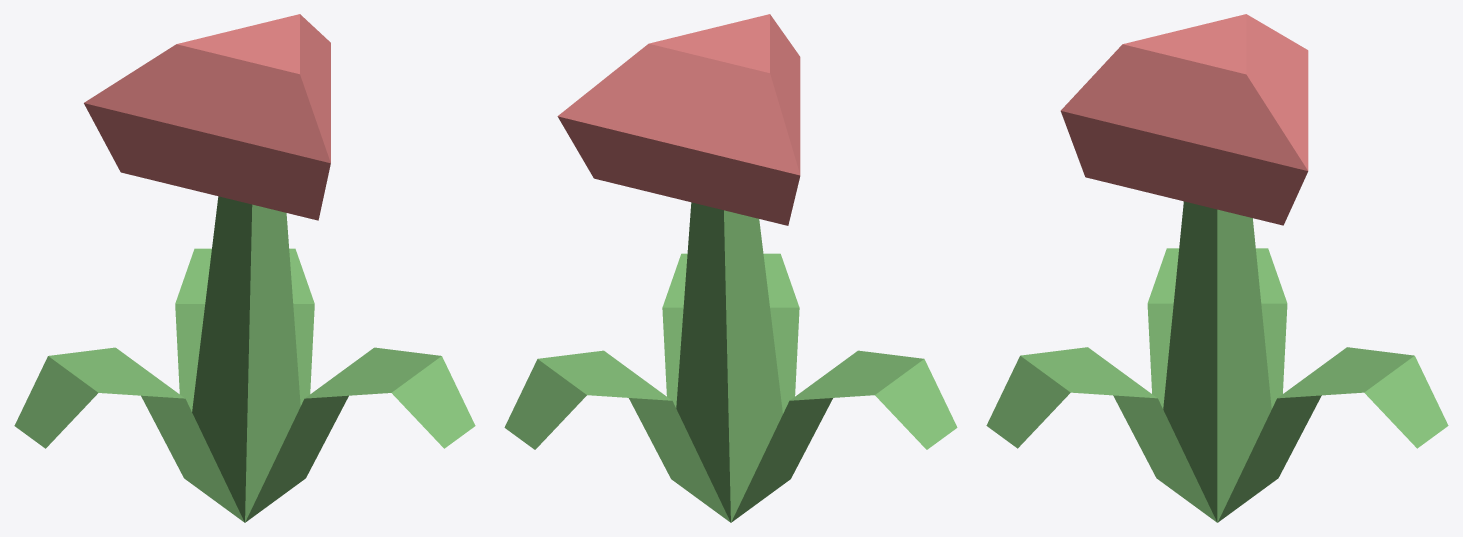
File: nature_flower_red_b.glb
3 renders of one model, left to right at view 1: azimuth 30°, elevation 25°; view 2: azimuth 150°, elevation 25°; view 3: azimuth 270°, elevation 25°, orthographic.
Visible parts, largest first — view 1: flower_redB; view 2: flower_redB; view 3: flower_redB.
Part boxes in pixels (x1=…): flower_redB: x1=14, y1=14, x2=475, y2=522; flower_redB: x1=504, y1=14, x2=957, y2=522; flower_redB: x1=986, y1=14, x2=1448, y2=522.
Size of the model in its own units: 0.3732 by 0.4653 by 0.4305.
